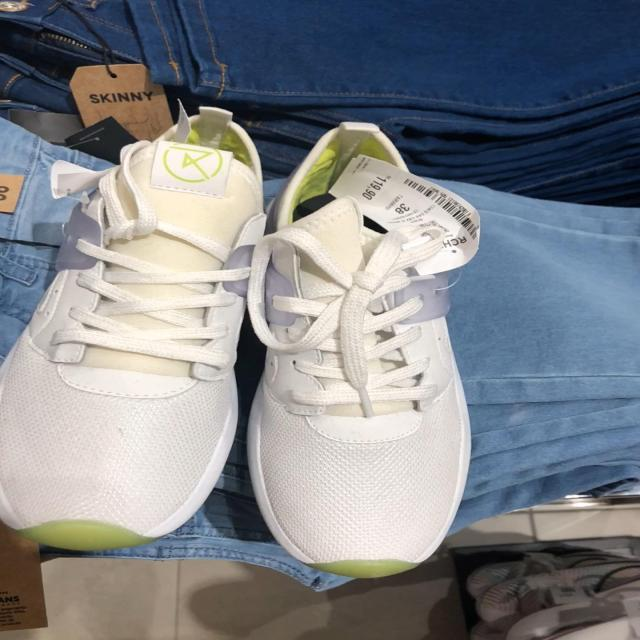shoe: (0, 110, 264, 557), (247, 122, 481, 582)
